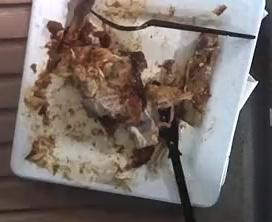chicken: (60, 44, 147, 129)
